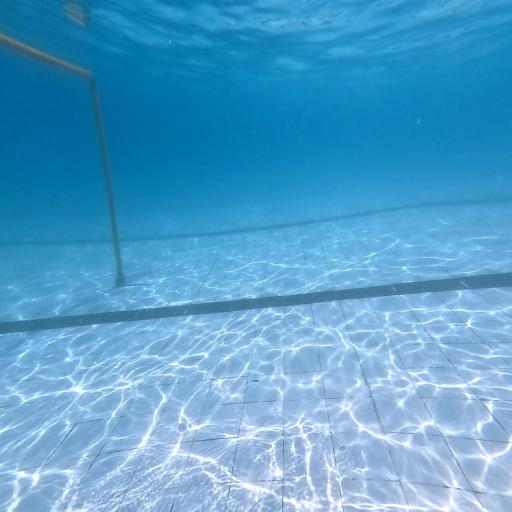gate: (0, 33, 151, 287)
